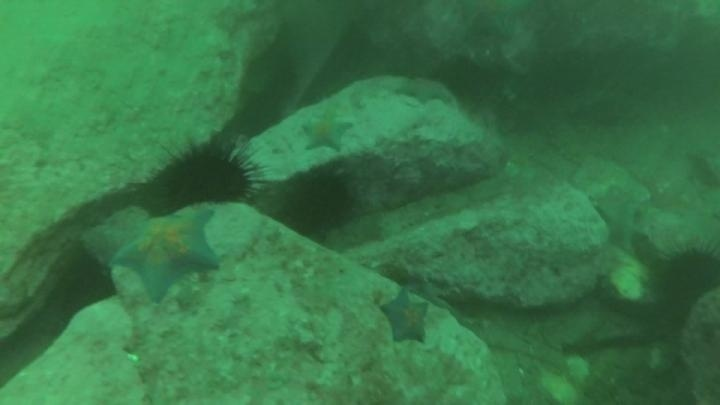echinus: (156, 141, 260, 211), (279, 170, 357, 238), (50, 251, 118, 323), (653, 241, 720, 309), (434, 54, 500, 108), (237, 92, 287, 140)
starfish: (109, 205, 224, 305), (378, 287, 432, 347), (299, 111, 355, 154), (394, 75, 458, 109)
